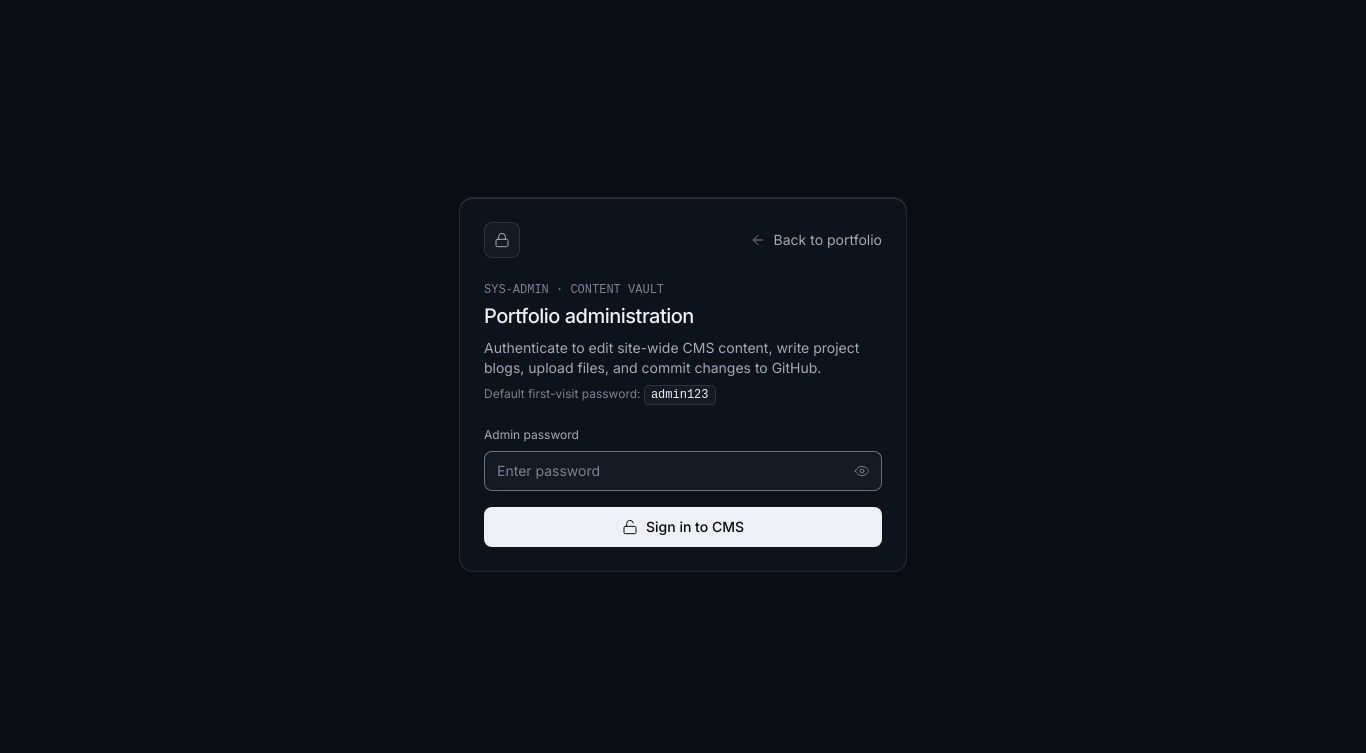
Test: M4 Admin CMS Stress Tests › stress test: rapid file uploads
Type "admin123" into the password field with placeholder "Enter password" at coordinates (683, 470), box [484,450,882,490]
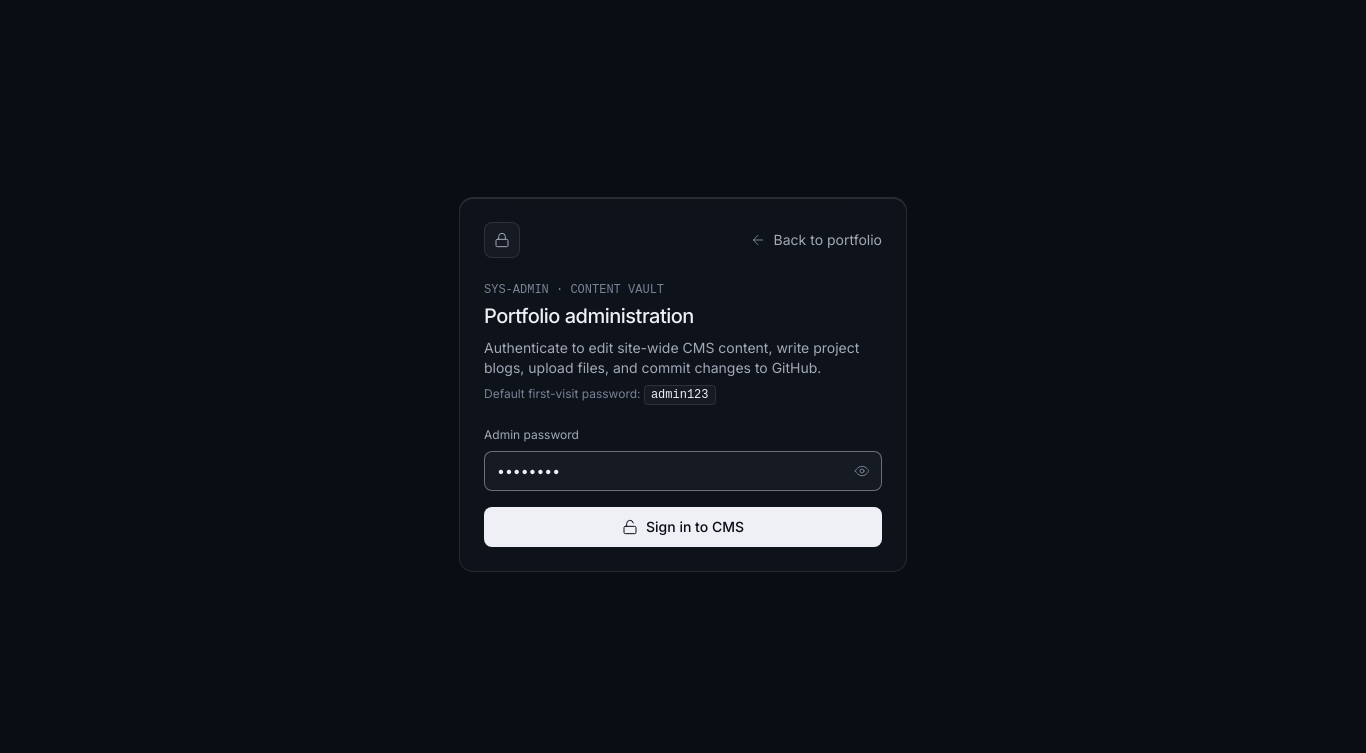
Click the button "Sign in to CMS" at coordinates (683, 526), box [484,506,882,546]
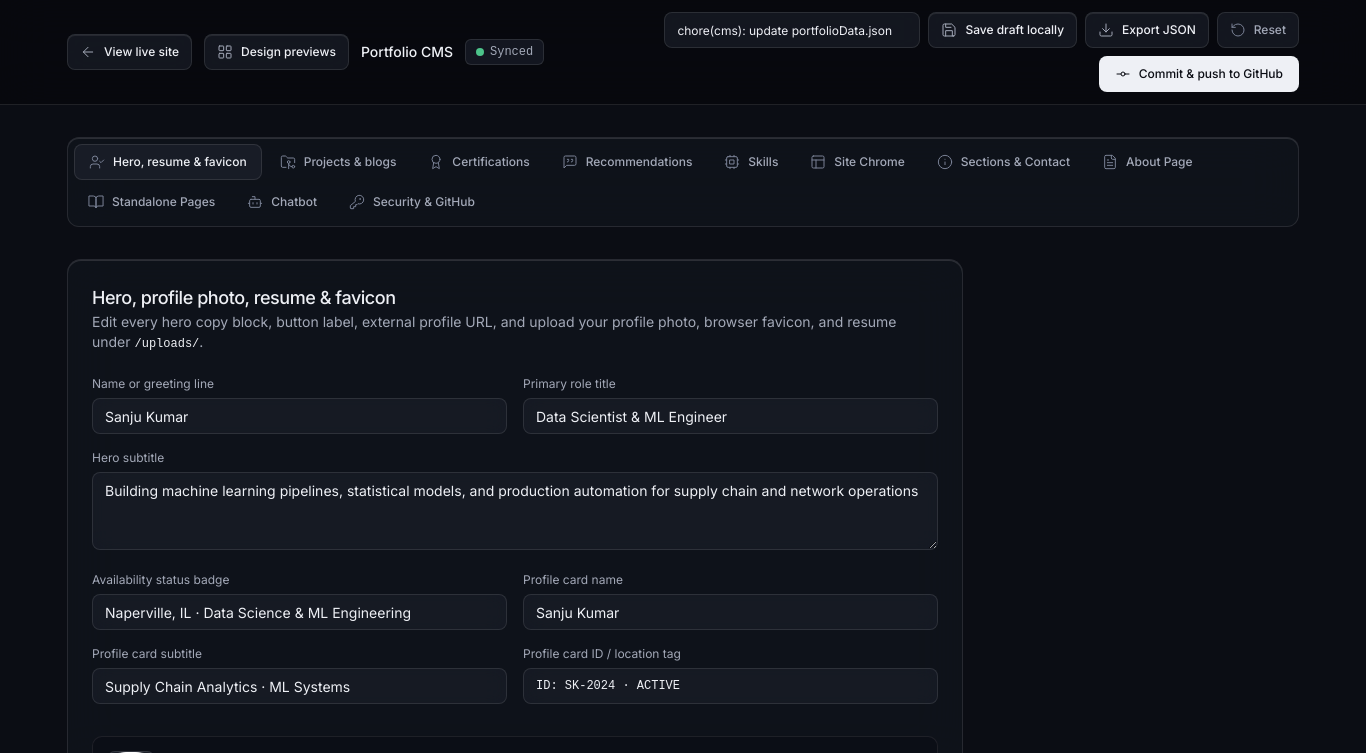
Now the text "Hero, resume & favicon" is shown, box [113,154,247,170]
